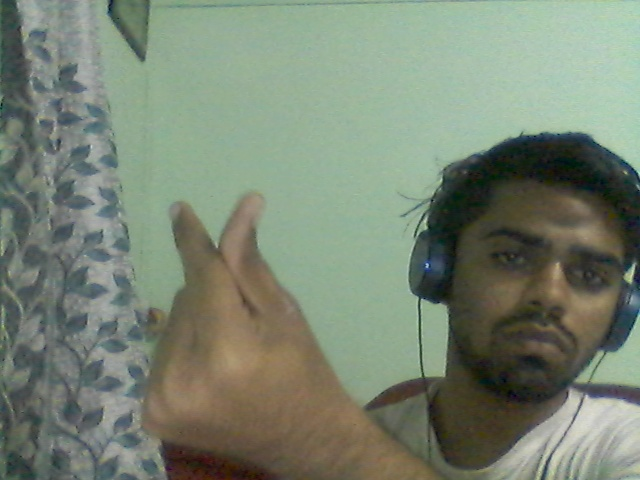I Love You: (112, 151, 366, 480)
